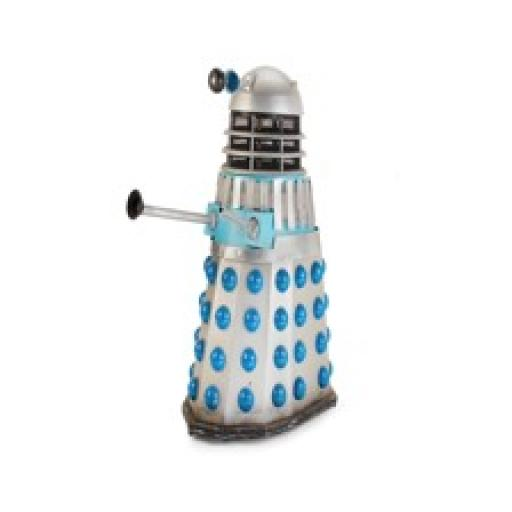dalek: (116, 58, 350, 445)
